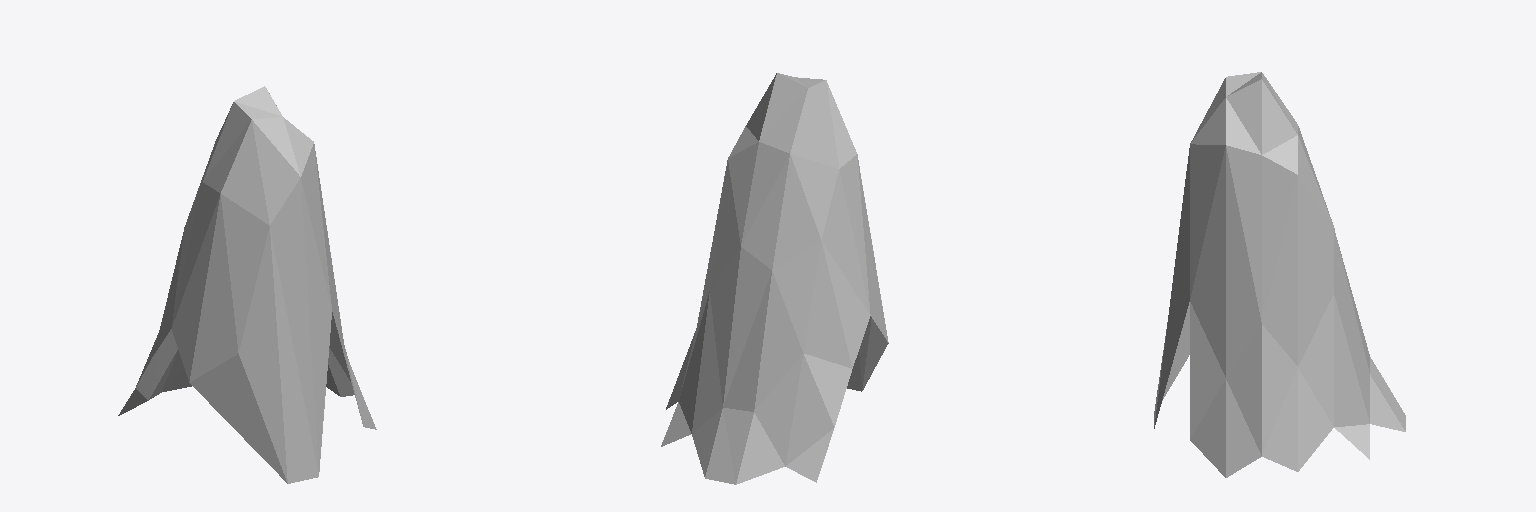
Rendered from tree_38.obj.
3 views of the same model, side by side, from view 1: azimuth 30°, elevation 25°; view 2: azimuth 150°, elevation 25°; view 3: azimuth 270°, elevation 25° (orthographic).
Visible parts, largest first — view 1: tree_38.001; view 2: tree_38.001; view 3: tree_38.001.
Part boxes in pixels (x1,y1,x2,y2): tree_38.001: (118,86,376,483); tree_38.001: (661,73,888,484); tree_38.001: (1154,72,1405,477).
Size of the model in its own units: 6 by 10.83 by 7.